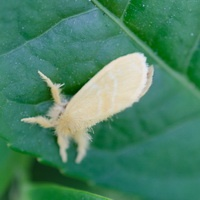insect: (21, 53, 153, 162)
